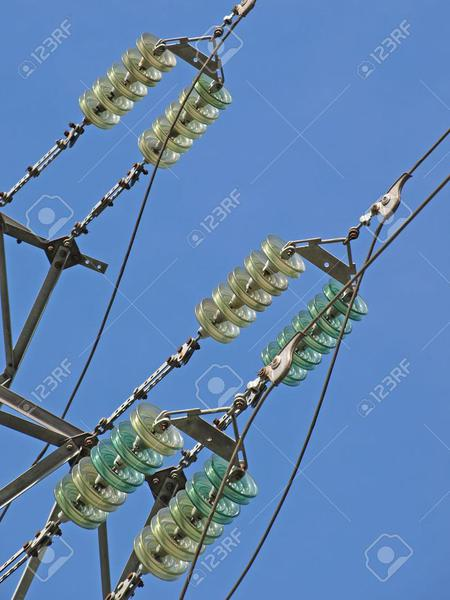isolator: (53, 400, 260, 583), (193, 234, 370, 389), (77, 32, 234, 172)
